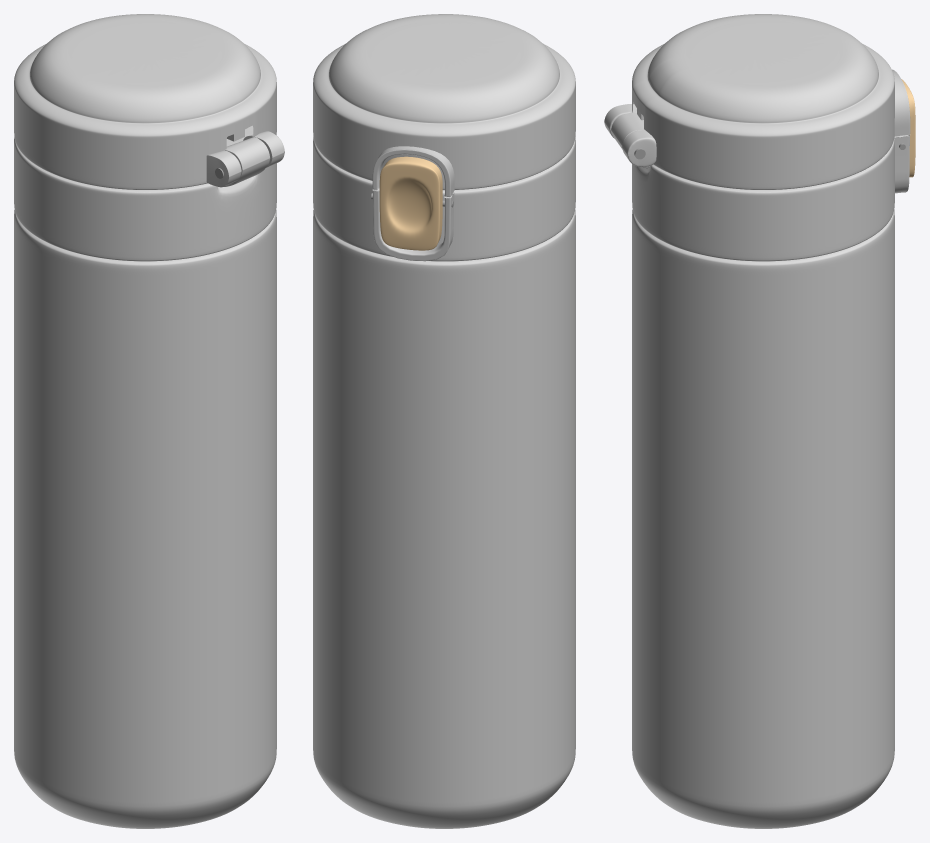
The model's file is tumbler_white.glb.
3 views of the same model, side by side, from view 1: azimuth 30°, elevation 25°; view 2: azimuth 150°, elevation 25°; view 3: azimuth 270°, elevation 25° (orthographic).
Visible parts, largest first — view 1: Cylinder.011_11, Cylinder.013_13, Cylinder.012_12, Cube.016_18, Cube.014_15, Cube.015_17; view 2: Cylinder.011_11, Cylinder.013_13, Cylinder.012_12, Cube.018_20, Cube.001_14; view 3: Cylinder.011_11, Cylinder.013_13, Cylinder.012_12, Cube.015_17, Cube.001_14, Cube.016_18, Cube.018_20.
Boxes of the visible parts, x1,y1,x2,y2 form: Cylinder.011_11: (14,210,276,828); Cylinder.013_13: (14,14,276,189); Cylinder.012_12: (14,125,276,261); Cube.016_18: (224,137,270,186); Cube.014_15: (206,150,241,187); Cube.015_17: (243,131,284,167); Cylinder.011_11: (313,210,575,828); Cylinder.013_13: (313,14,575,190); Cylinder.012_12: (313,137,575,261); Cube.018_20: (379,156,442,250); Cube.001_14: (372,146,454,197); Cylinder.011_11: (632,210,894,828); Cylinder.013_13: (632,14,894,189); Cylinder.012_12: (632,134,909,261); Cube.015_17: (622,129,656,166); Cube.001_14: (892,69,910,136); Cube.016_18: (611,111,650,168); Cube.018_20: (901,79,915,177).
Size of the model in its own units: 0.1753 by 0.5417 by 0.2078.
